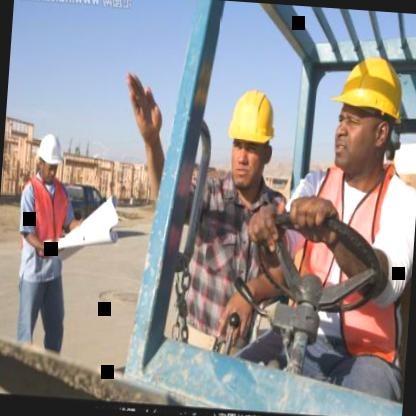helmet: (323, 47, 410, 187), (221, 80, 283, 193), (34, 126, 66, 184)
